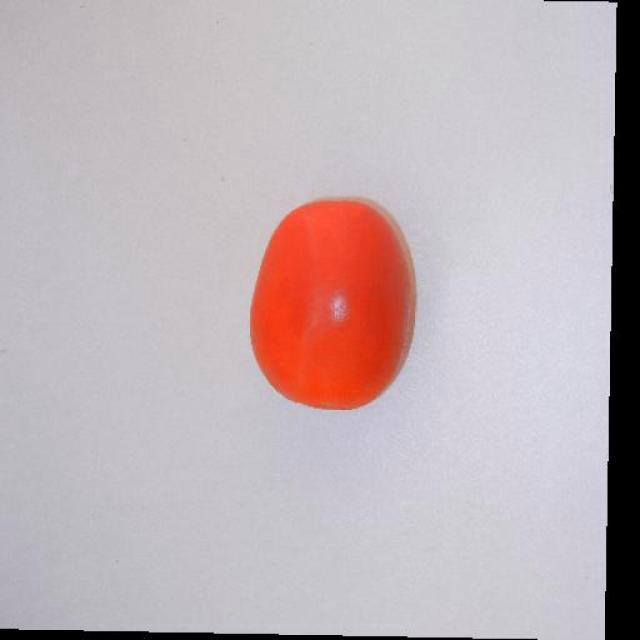tomato: (250, 197, 419, 414)
